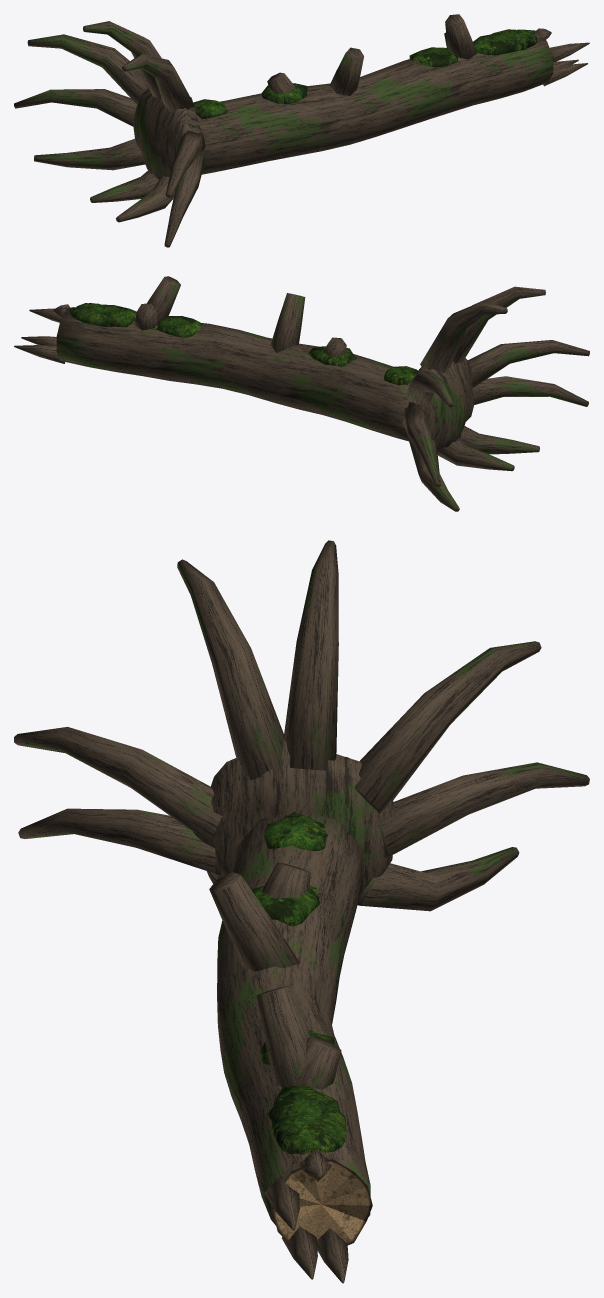
The model's file is Fallen_Log_A.glb.
3 views of the same model, one above another, from view 1: azimuth 30°, elevation 25°; view 2: azimuth 150°, elevation 25°; view 3: azimuth 270°, elevation 25° (orthographic). The views are drawn at different scales.
Parts seen in each view (by area): view 1: Fallen_Log_A__Bark, Fallen_Log_A__Moss; view 2: Fallen_Log_A__Bark, Fallen_Log_A__Moss; view 3: Fallen_Log_A__Bark, Fallen_Log_A__Moss, Fallen_Log_A__Ends.
Boxes of the visible parts, x1=… form: Fallen_Log_A__Bark: x1=14, y1=14, x2=589, y2=247; Fallen_Log_A__Moss: x1=193, y1=29, x2=537, y2=119; Fallen_Log_A__Bark: x1=14, y1=276, x2=589, y2=511; Fallen_Log_A__Moss: x1=69, y1=303, x2=417, y2=385; Fallen_Log_A__Bark: x1=14, y1=540, x2=589, y2=1283; Fallen_Log_A__Moss: x1=251, y1=812, x2=346, y2=1154; Fallen_Log_A__Ends: x1=272, y1=1159, x2=372, y2=1245.
Bounding box in the file's own units: 30.26 × 10.26 × 16.27.
3 materials, 3 textured.
